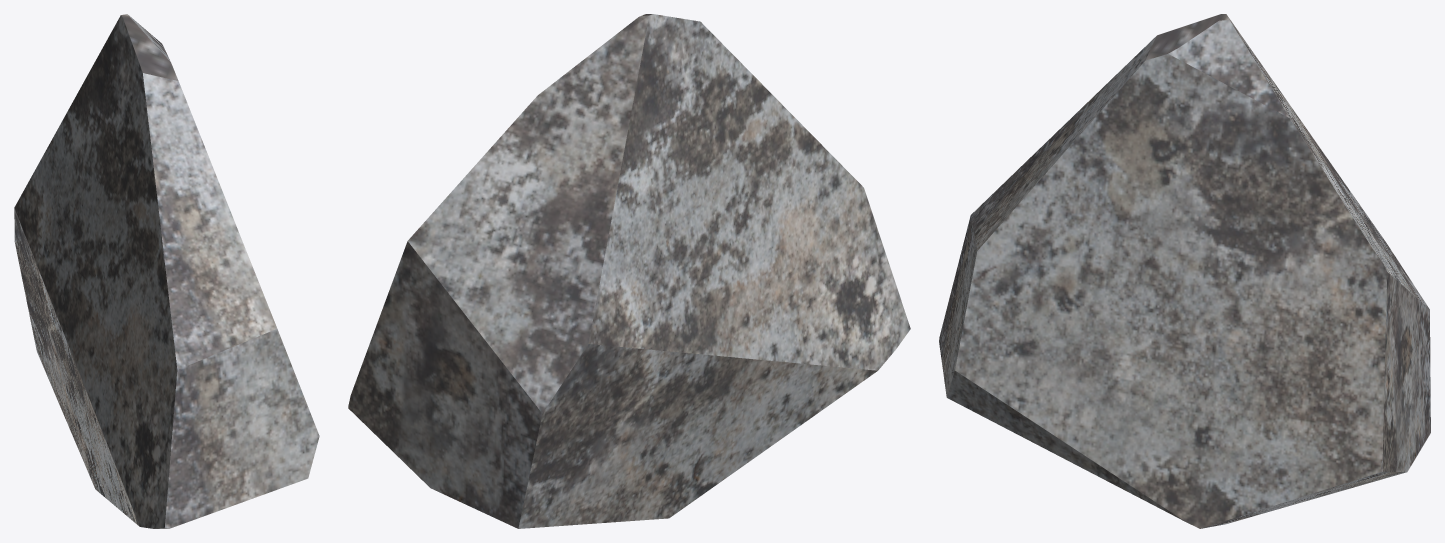
Rendered from Asteroid_Large_001_02_009_03_025.fbx.
3 renders of one model, left to right at view 1: azimuth 30°, elevation 25°; view 2: azimuth 150°, elevation 25°; view 3: azimuth 270°, elevation 25°, orthographic. The views are drawn at different scales.
Parts seen in each view (by area): view 1: Asteroid_Large_001_02_009_03_025; view 2: Asteroid_Large_001_02_009_03_025; view 3: Asteroid_Large_001_02_009_03_025.
Boxes of the visible parts, box(x1,y1,x2,y2) form: Asteroid_Large_001_02_009_03_025: box(14, 14, 319, 528); Asteroid_Large_001_02_009_03_025: box(348, 14, 910, 528); Asteroid_Large_001_02_009_03_025: box(939, 14, 1430, 528).
Size of the model in its own units: 8.52 by 12.33 by 11.91.
